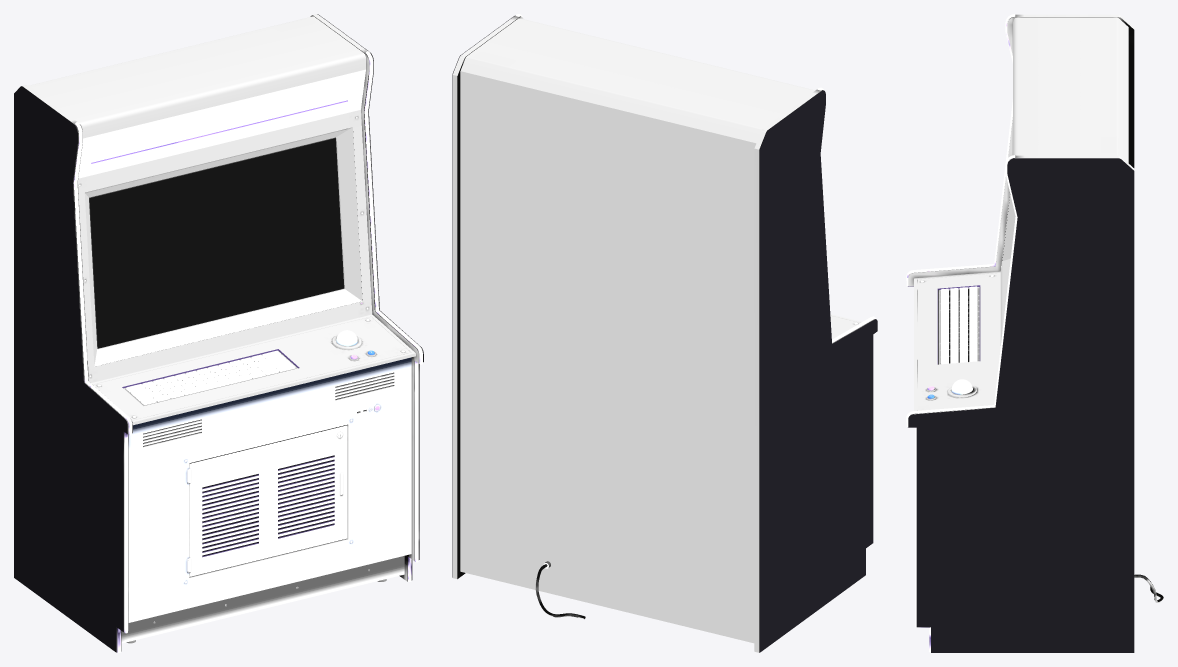
The model's file is mach-nexus-v2.glb.
3 views of the same model, side by side, from view 1: azimuth 30°, elevation 25°; view 2: azimuth 150°, elevation 25°; view 3: azimuth 270°, elevation 25° (orthographic). The views are drawn at different scales.
Visible parts, largest first — view 1: body, side_art_l, screen, glass, trim, controls, side_art_r; view 2: body, side_art_l; view 3: side_art_r, body, controls, trim, trackball.
Boxes of the visible parts, box(x1,y1,x2,y2) form: body: box(22, 14, 423, 652); side_art_l: box(14, 86, 127, 652); screen: box(89, 138, 343, 348); glass: box(90, 139, 344, 348); trim: box(73, 51, 422, 652); controls: box(124, 302, 379, 436); side_art_r: box(317, 14, 423, 579); body: box(452, 15, 875, 652); side_art_l: box(759, 90, 877, 652); side_art_r: box(908, 158, 1134, 652); body: box(908, 14, 1134, 417); controls: box(938, 286, 979, 364); trim: box(906, 14, 1017, 652); trackball: box(947, 379, 976, 397).
Bounding box in the file's own units: 1.2 × 1.94 × 0.9111.
Materials: 23 (7 with a texture image).
